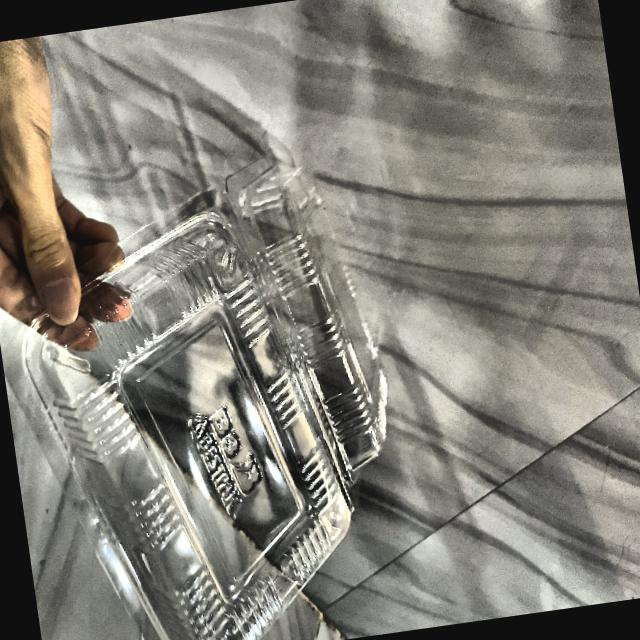plastic container: (35, 159, 418, 640)
